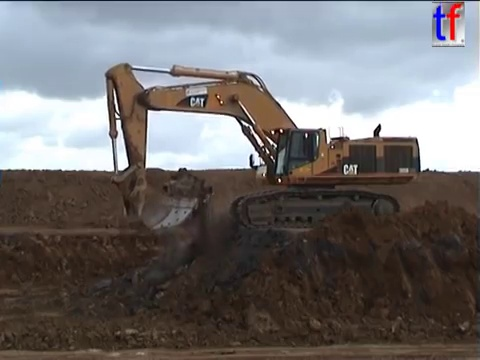excavator: (101, 59, 423, 234)
